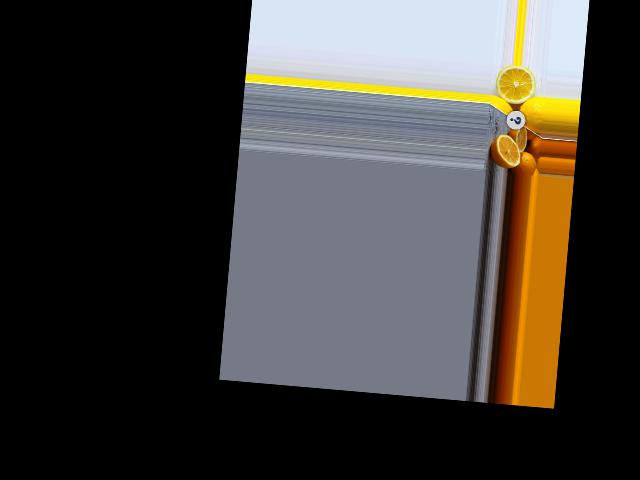lemon: (516, 93, 545, 134)
